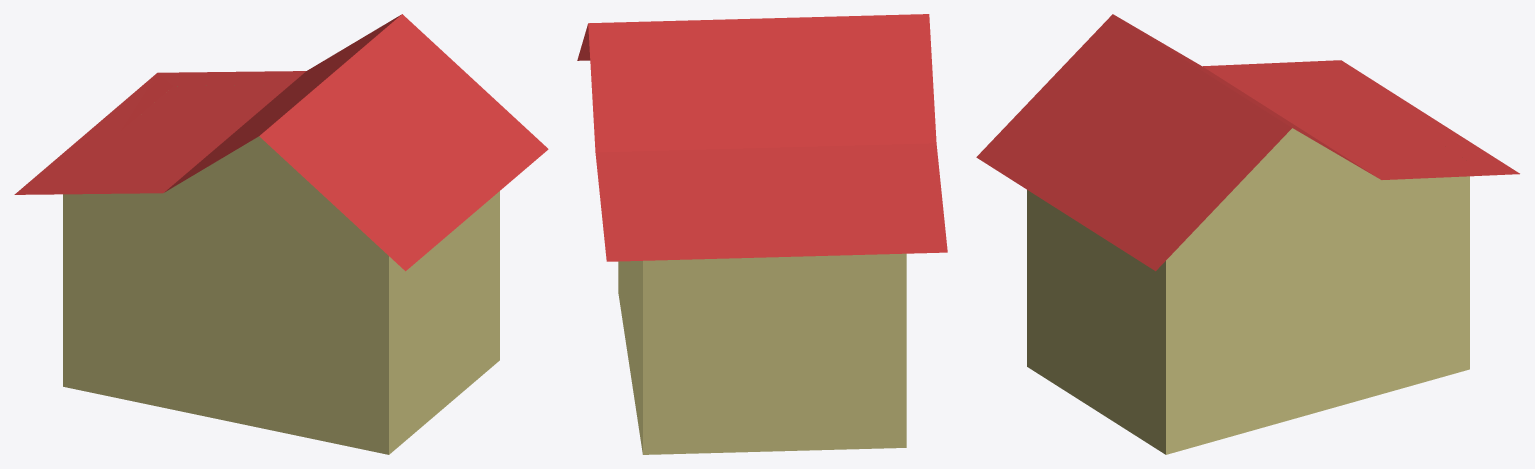
3 renders of one model, left to right at view 1: azimuth 30°, elevation 25°; view 2: azimuth 150°, elevation 25°; view 3: azimuth 270°, elevation 25°, orthographic. The views are drawn at different scales.
Size of the model in its own units: 13.97 by 14.83 by 9.32.
